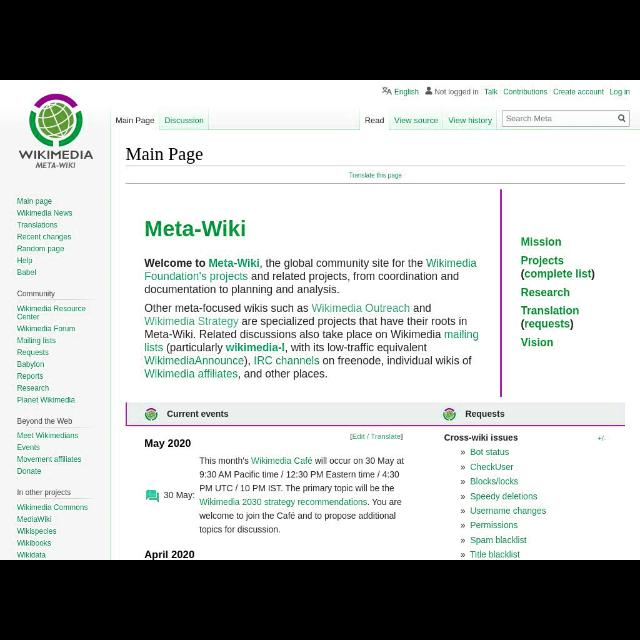icon: (383, 85, 392, 97), (423, 85, 432, 96), (618, 113, 626, 125), (460, 508, 468, 516), (459, 522, 467, 530), (460, 550, 466, 560), (459, 492, 466, 500), (460, 463, 466, 471), (460, 536, 466, 544), (460, 479, 466, 486), (461, 449, 465, 456)
image: (15, 96, 97, 170), (144, 488, 162, 502), (143, 408, 159, 422), (443, 410, 459, 418)
input: (502, 111, 630, 127)
text: (146, 256, 480, 386), (199, 455, 407, 533), (146, 217, 250, 241), (520, 254, 598, 280), (125, 146, 208, 166), (524, 306, 580, 330), (17, 412, 75, 430), (16, 304, 88, 318), (16, 394, 76, 406), (15, 230, 74, 242), (16, 207, 72, 219), (166, 409, 230, 419), (17, 431, 81, 441), (469, 507, 546, 515), (444, 434, 520, 442), (16, 504, 90, 512), (469, 518, 518, 530), (18, 453, 82, 462), (145, 437, 193, 449), (470, 534, 526, 544), (392, 115, 438, 127), (115, 114, 154, 128), (349, 170, 403, 180), (15, 244, 69, 254), (144, 550, 198, 560), (519, 236, 563, 248), (472, 492, 538, 500), (14, 325, 78, 333), (352, 433, 402, 443), (502, 87, 550, 97), (15, 489, 74, 497), (553, 89, 605, 98), (469, 460, 515, 470), (16, 195, 54, 207), (448, 118, 492, 128), (436, 87, 480, 97), (466, 408, 506, 419), (14, 221, 58, 231), (521, 289, 575, 297), (16, 335, 58, 345), (163, 117, 204, 127), (470, 550, 520, 558), (471, 477, 519, 485), (18, 290, 56, 300), (469, 448, 506, 457), (523, 337, 555, 347), (166, 491, 197, 501), (16, 383, 50, 392), (16, 348, 49, 357), (506, 116, 554, 122), (16, 528, 58, 534), (14, 255, 38, 265), (16, 360, 46, 368), (18, 516, 56, 522), (364, 116, 386, 126), (18, 466, 40, 476), (394, 88, 420, 96), (18, 372, 44, 380), (16, 444, 42, 452), (16, 268, 40, 276), (16, 551, 48, 557), (18, 542, 56, 546), (608, 90, 630, 96), (483, 88, 499, 96)
toolbar: (110, 114, 640, 128)
